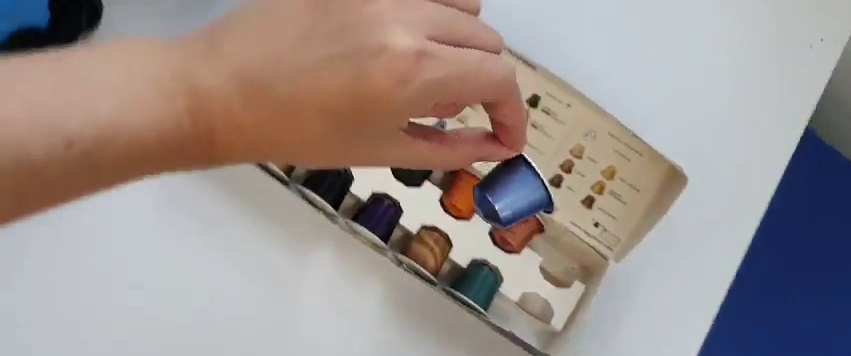capsule_7: (470, 149, 555, 229)
